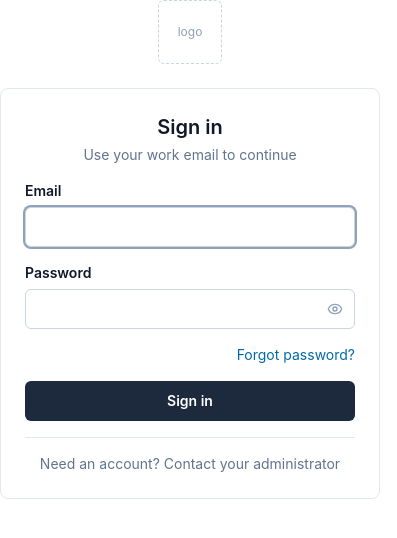
Scenario: LoginPage (client-side email validation) › AC5: submitting a malformed email shows "Enter a valid email address" beneath the field and sends no request
Type "not-an-email" into the field labelled "Email".
click(190, 227); type("not-an-email")  # box [25,207,355,247]
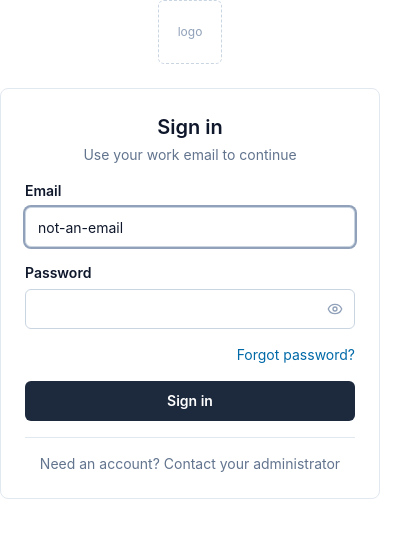
Click the button "Sign in".
click(190, 401)  # box [25,381,355,421]
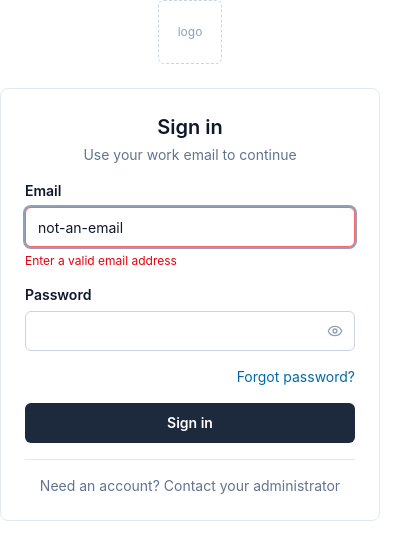
Check: the text "Enter a valid email address" is shown, box [25,253,177,268]
